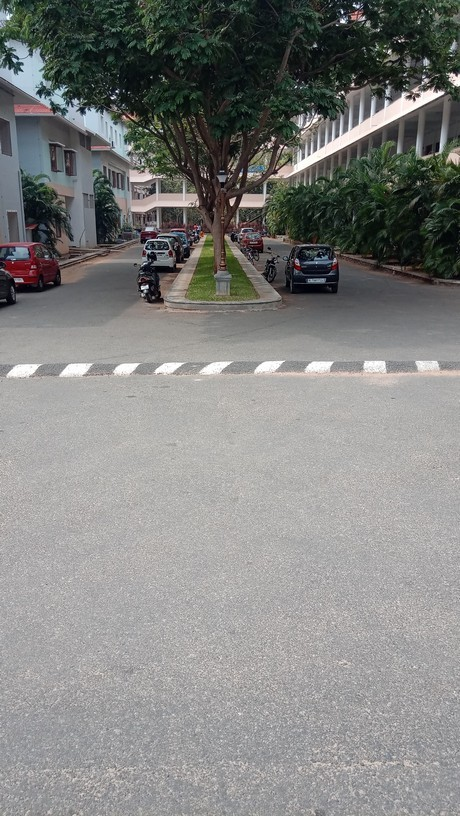bump: (1, 359, 460, 384)
